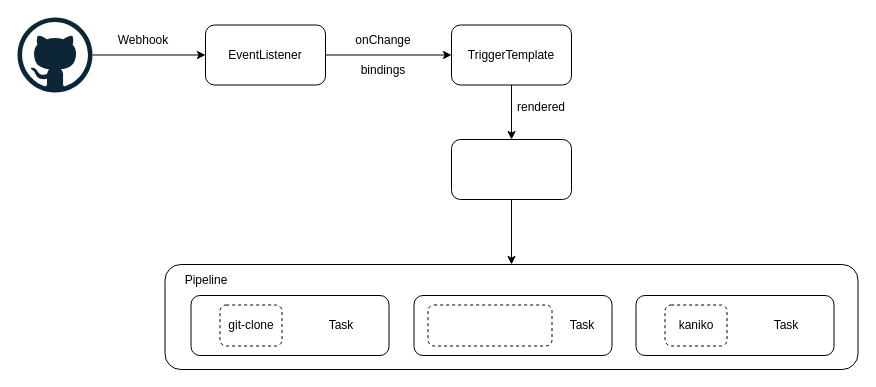
Image size: 876x387. Some labels were removed from this diagram. Each missing label, with the centre of its shape:
"PipelineRun" belongs at pixel 511 169.
"sonarqube-scanner" belongs at pixel 489 325.
